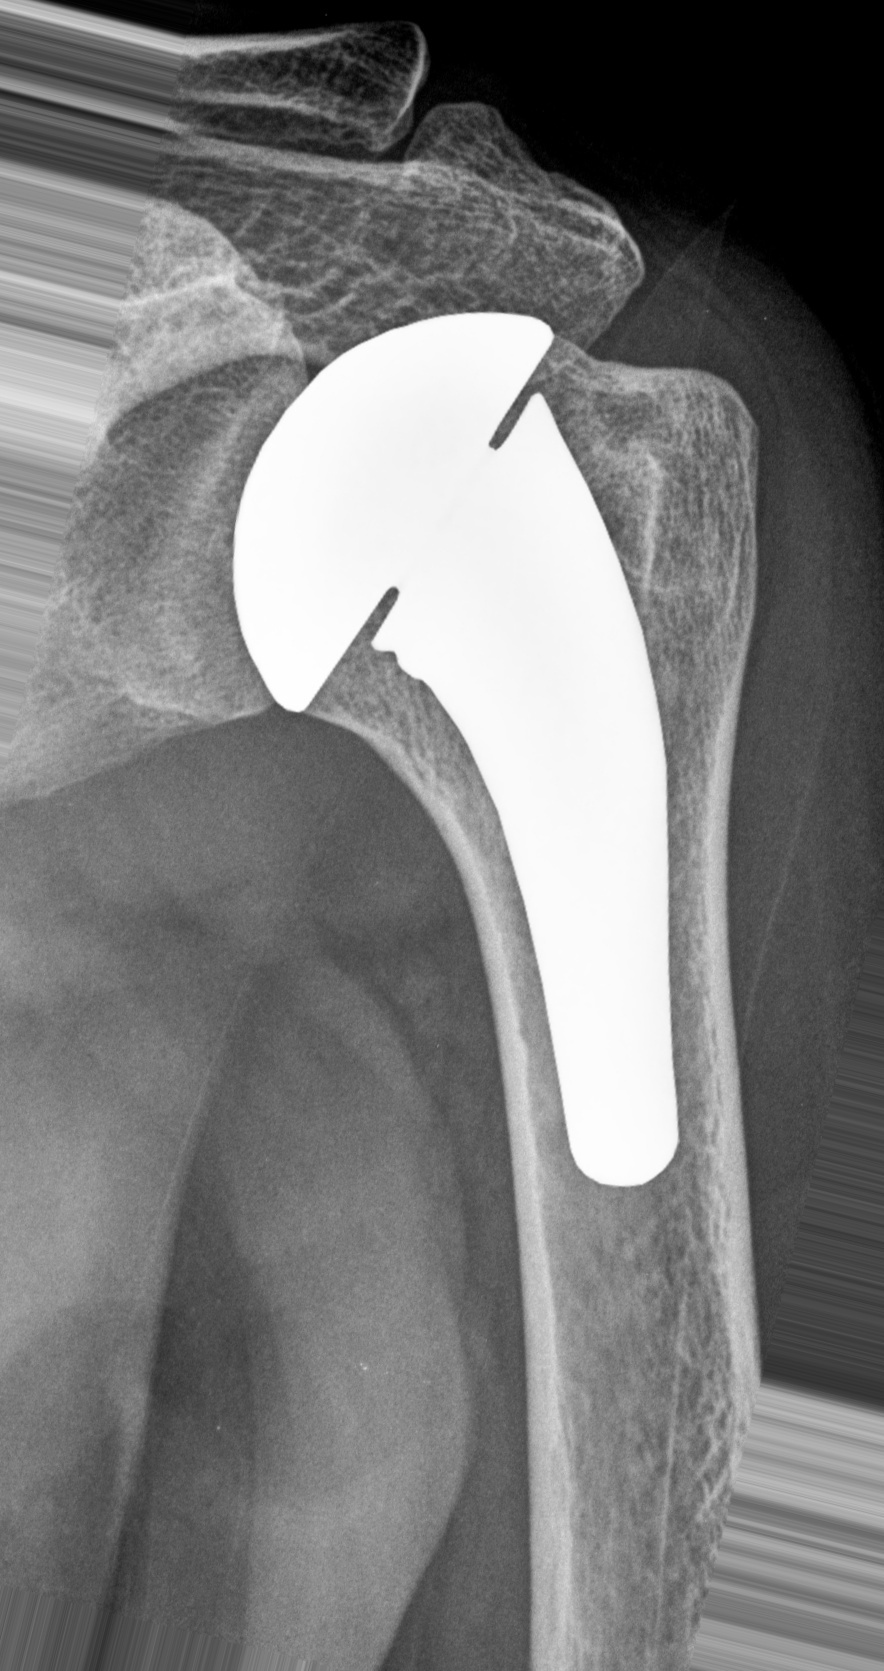Shoulder - AequalisAscendFlex - Tornier: (218, 301, 565, 733)
